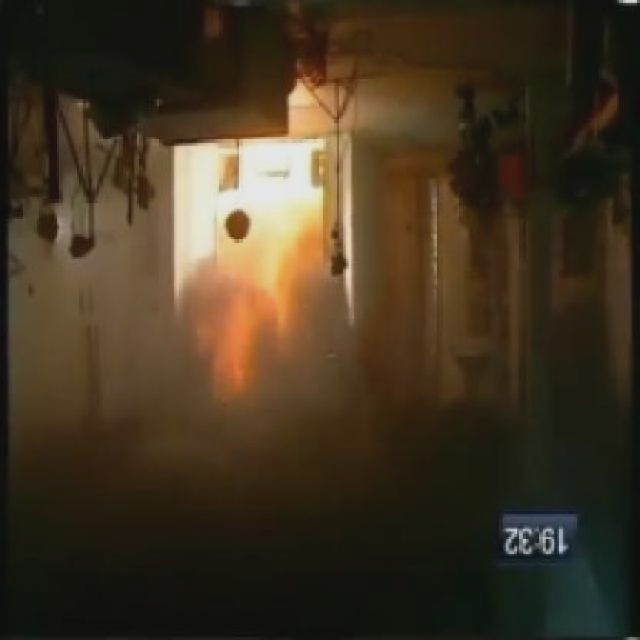fire: (166, 141, 353, 404)
